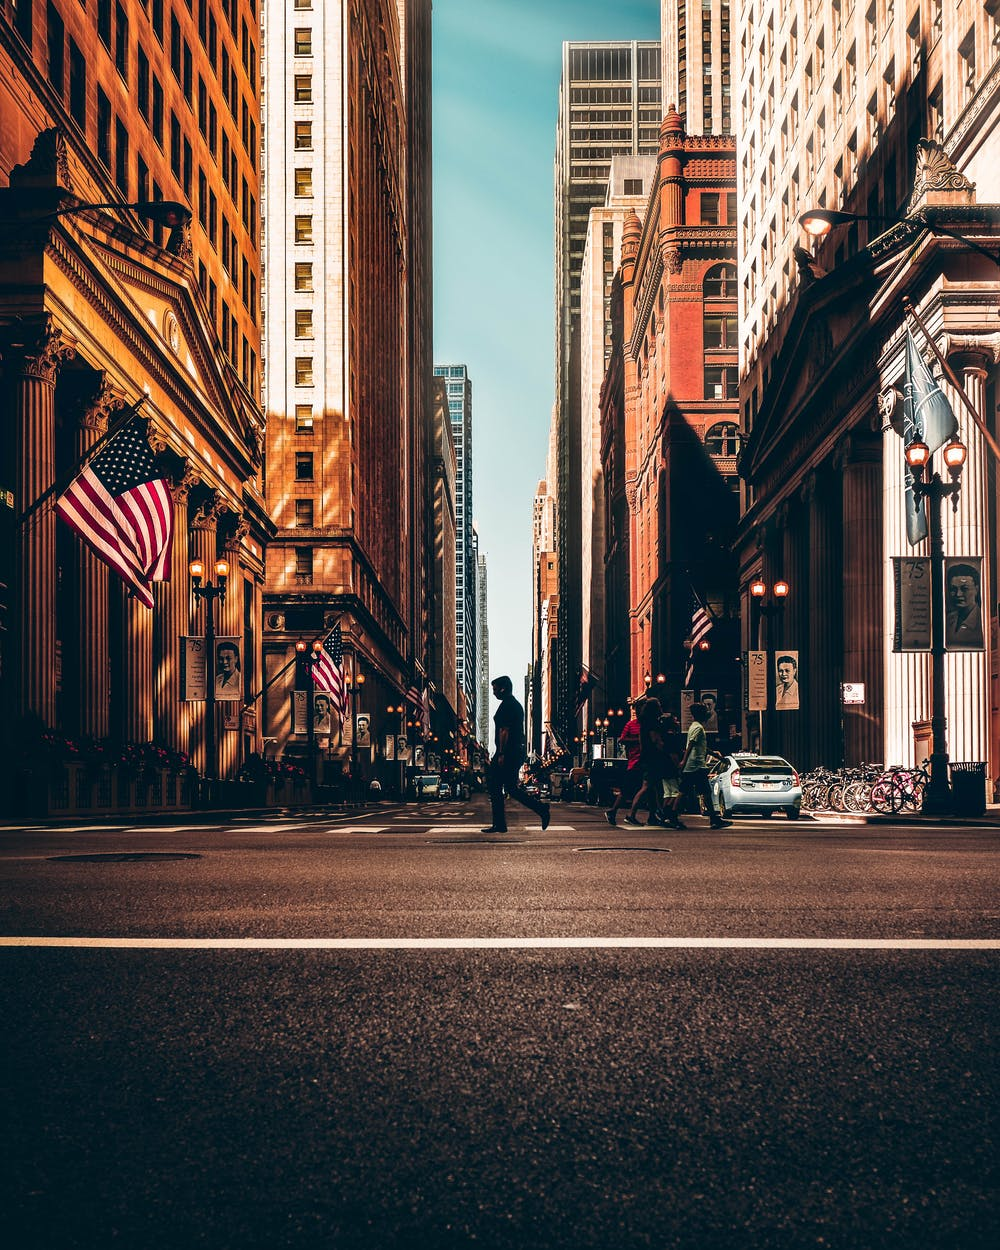Flag: (52, 415, 178, 616), (902, 324, 958, 550), (307, 618, 354, 717), (676, 588, 716, 686)
